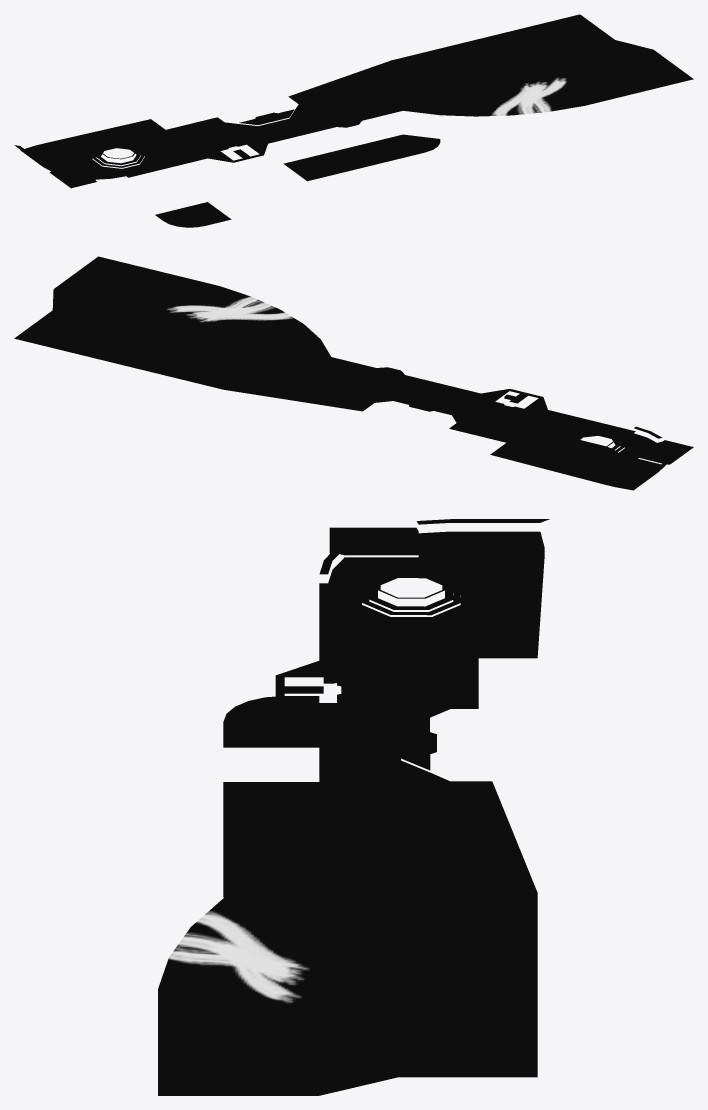
Rendered from pollution00.dae.
3 renders of one model, top to bottom at view 1: azimuth 30°, elevation 25°; view 2: azimuth 150°, elevation 25°; view 3: azimuth 270°, elevation 25°, orthographic. The views are drawn at different scales.
Parts seen in each view (by area): view 1: m0; view 2: m0; view 3: m0.
Boxes of the visible parts, x1,y1,x2,y2 form: m0: (14, 14, 693, 227); m0: (14, 256, 693, 490); m0: (158, 519, 549, 1095).
Bounding box in the file's own units: 15400 × 1252 × 4494.
